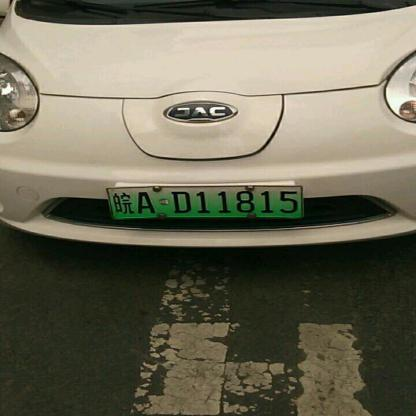lp: (107, 186, 304, 219)
